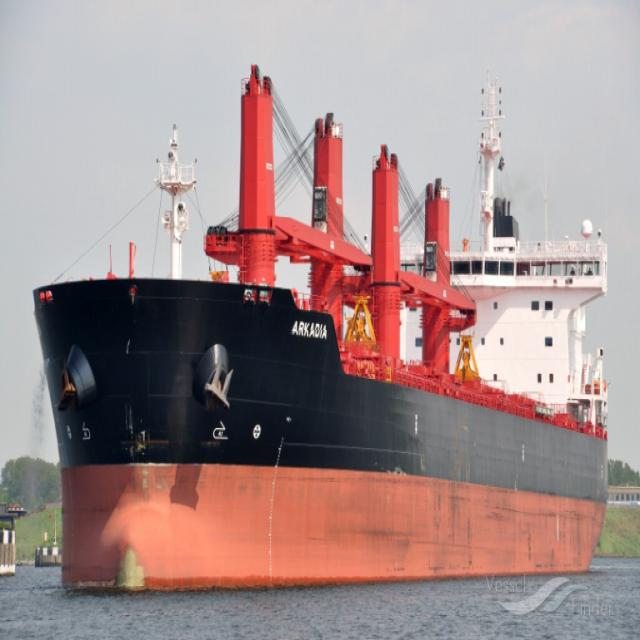OCR: (287, 310, 331, 346)
